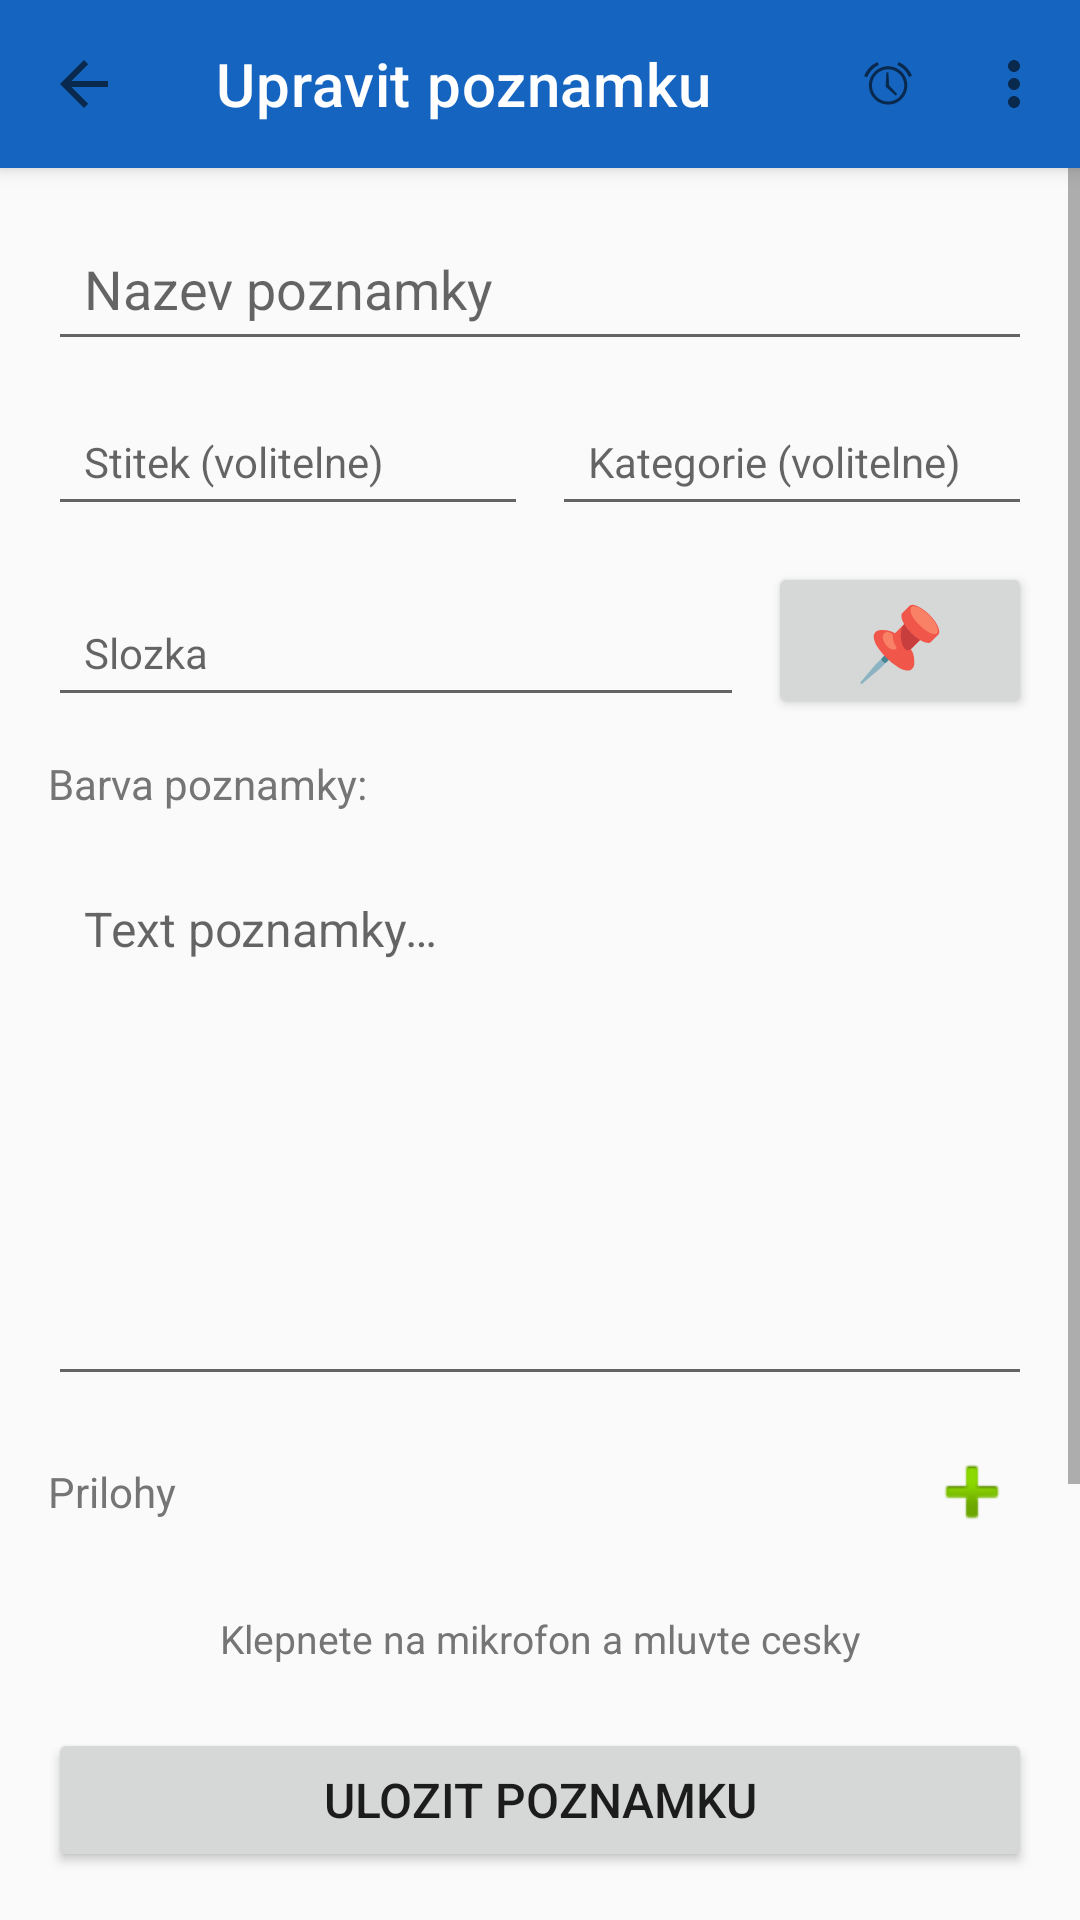

Named icons in this screenshot (1080*1920) and their centers, [x,y]:
Pridat prilohu: [972,1492]
